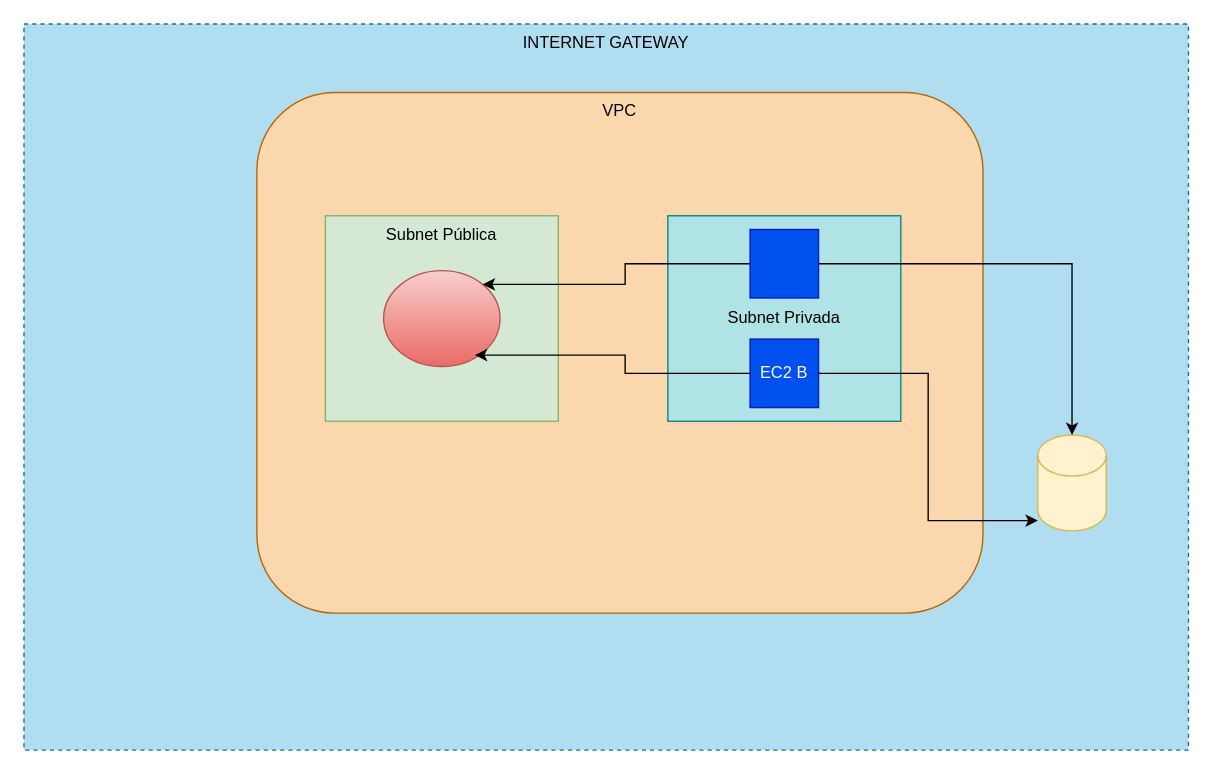
This 1212x774 diagram has some shape labels left out. Here are the shapes that lost their labels. From the top down, the centre of each, then its label:
At [784,263]: "EC2 A".
At [441,317]: "Load Balancer".
At [1071,482]: "Bucket S3".
